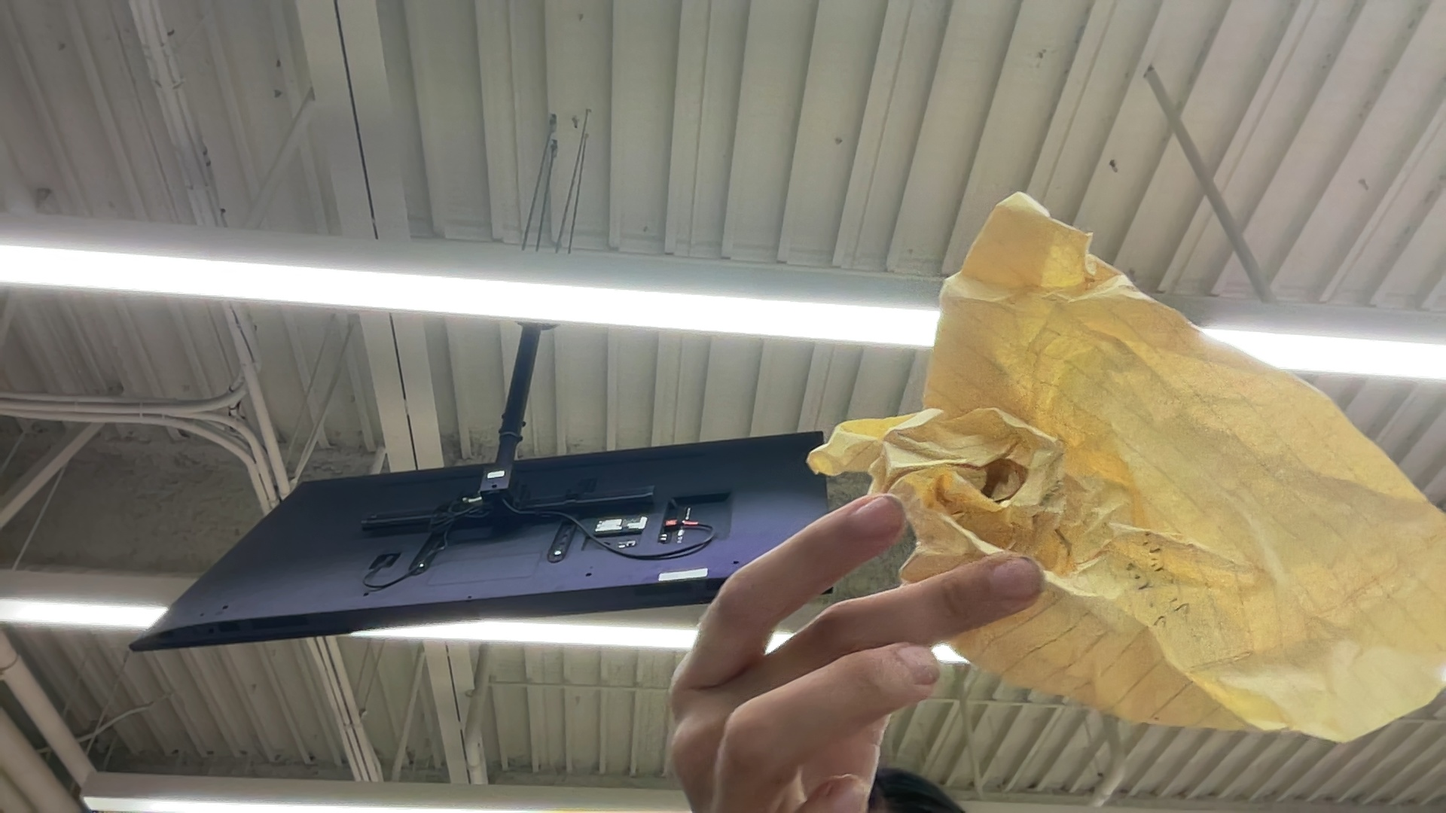Paper: (1183, 321, 1437, 375)
